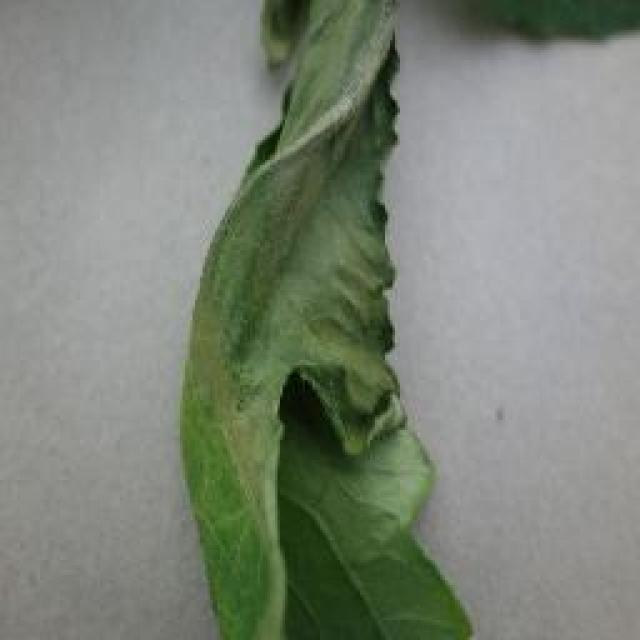Tomato Late Blight: (220, 115, 420, 468)
